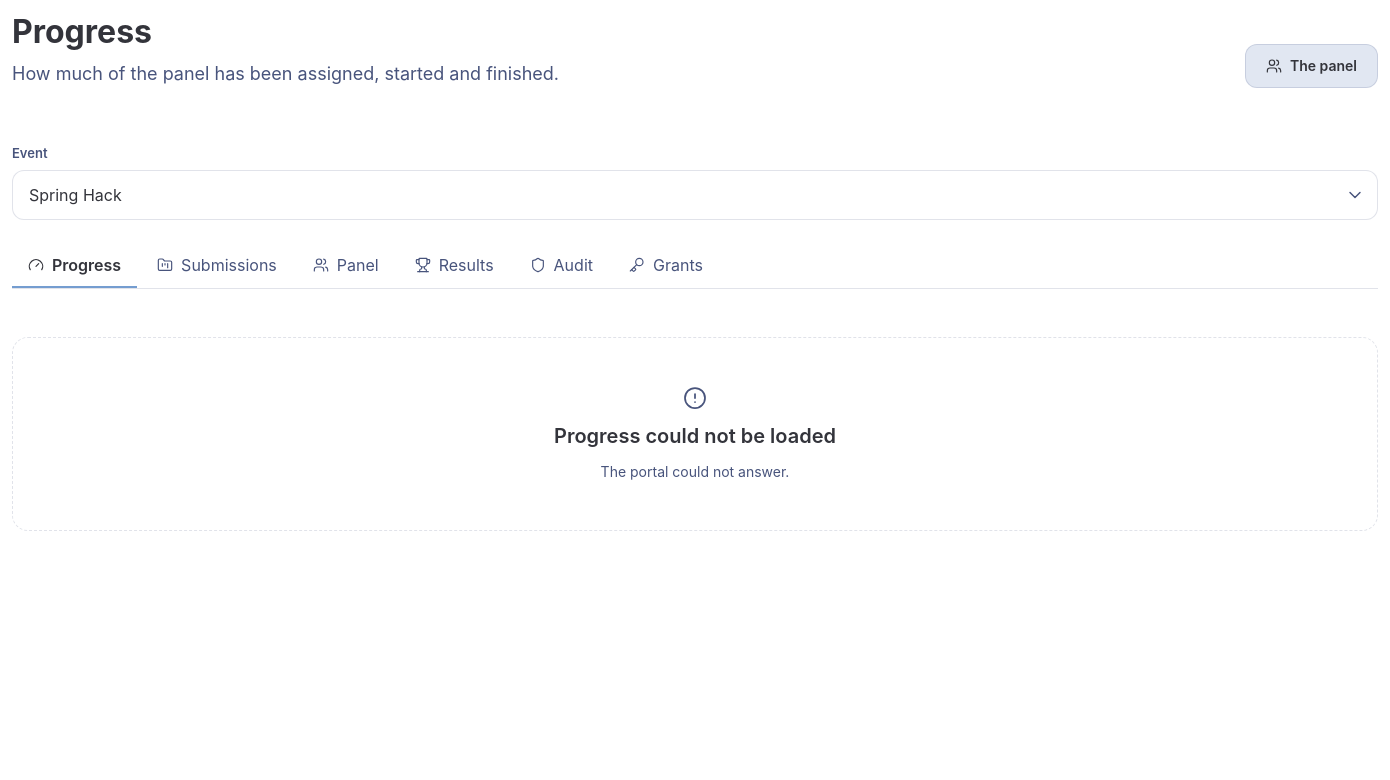
Test: organizer: a failed load does not take the page down › clears the error when the query runs again and succeeds
Expected: the heading "Progress could not be loaded" is shown, [554,422,836,450]
Select "Winter Hack" in the dropdown labelled "Event" at point(695, 195), box [12,170,1378,220]
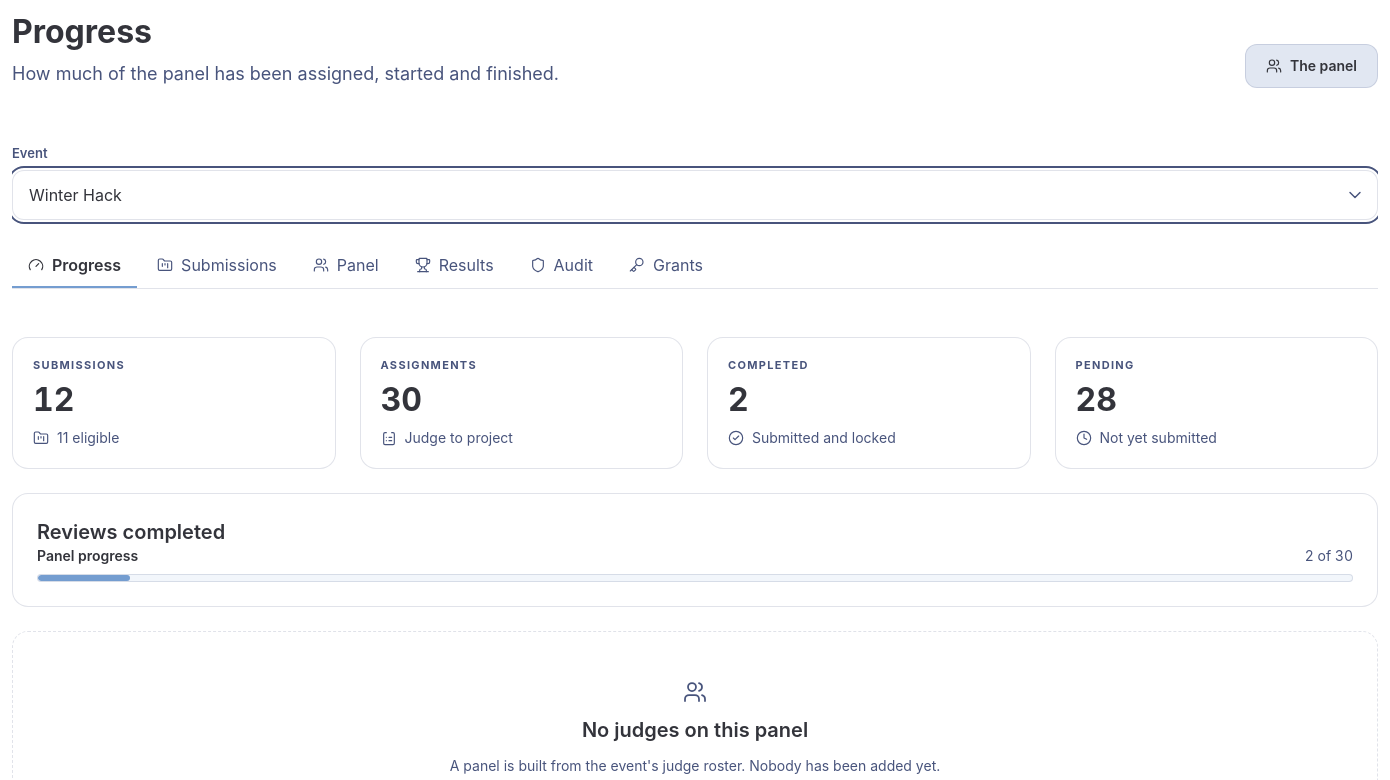
Now the heading "Progress could not be loaded" is gone
Now the text "11 eligible" is shown, box [33,429,119,446]
